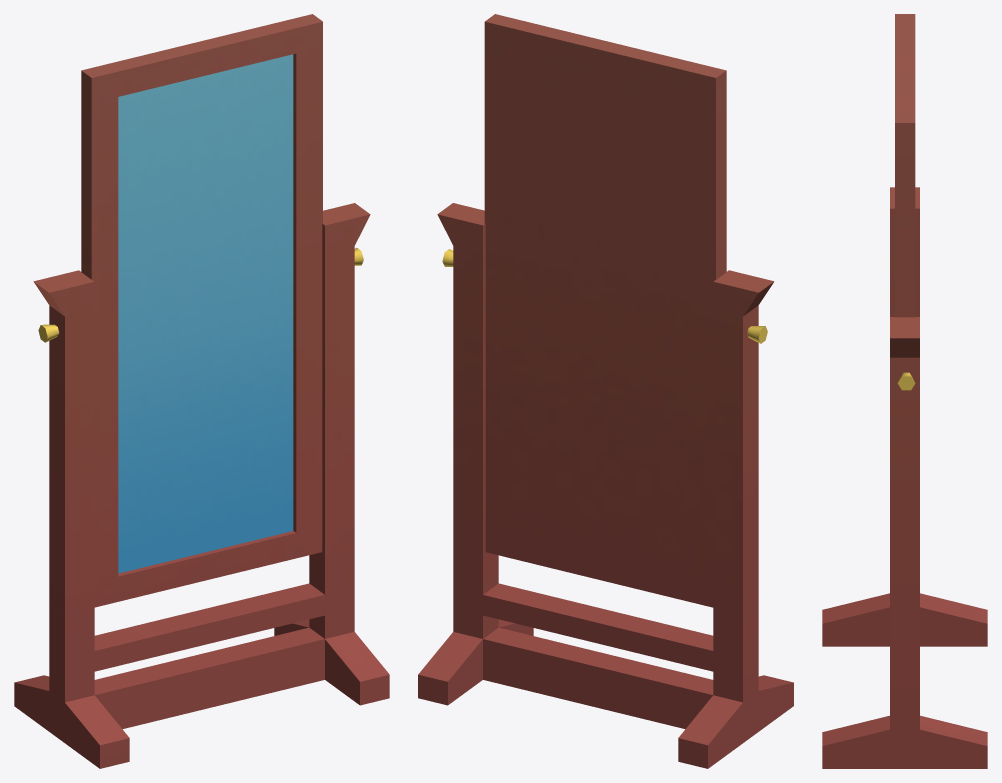
Rendered from SM_Mirror_Standing_1_03.fbx.
The picture shows the model from 3 angles, left to right: view 1: azimuth 30°, elevation 25°; view 2: azimuth 150°, elevation 25°; view 3: azimuth 270°, elevation 25°; orthographic projection. The views are drawn at different scales.
Parts seen in each view (by area): view 1: SM_Mirror_Standing_1_03; view 2: SM_Mirror_Standing_1_03; view 3: SM_Mirror_Standing_1_03.
Boxes of the visible parts, x1,y1,x2,y2 form: SM_Mirror_Standing_1_03: (14,14,389,768); SM_Mirror_Standing_1_03: (418,14,793,768); SM_Mirror_Standing_1_03: (822,14,987,768).
Size of the model in its own units: 78.86 by 154 by 36.46.
